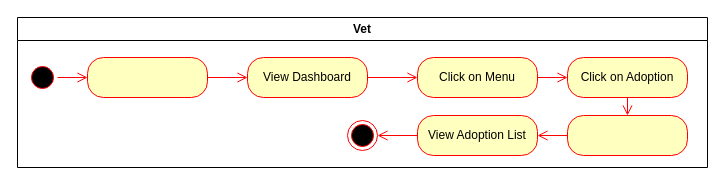
Image size: 725x185. Some labels were removed from this diagram. Here are the shapes that lost their labels. From the top down, the centre of each, then its label:
point 147,77: Login
point 627,135: Click on Adoption Pool
